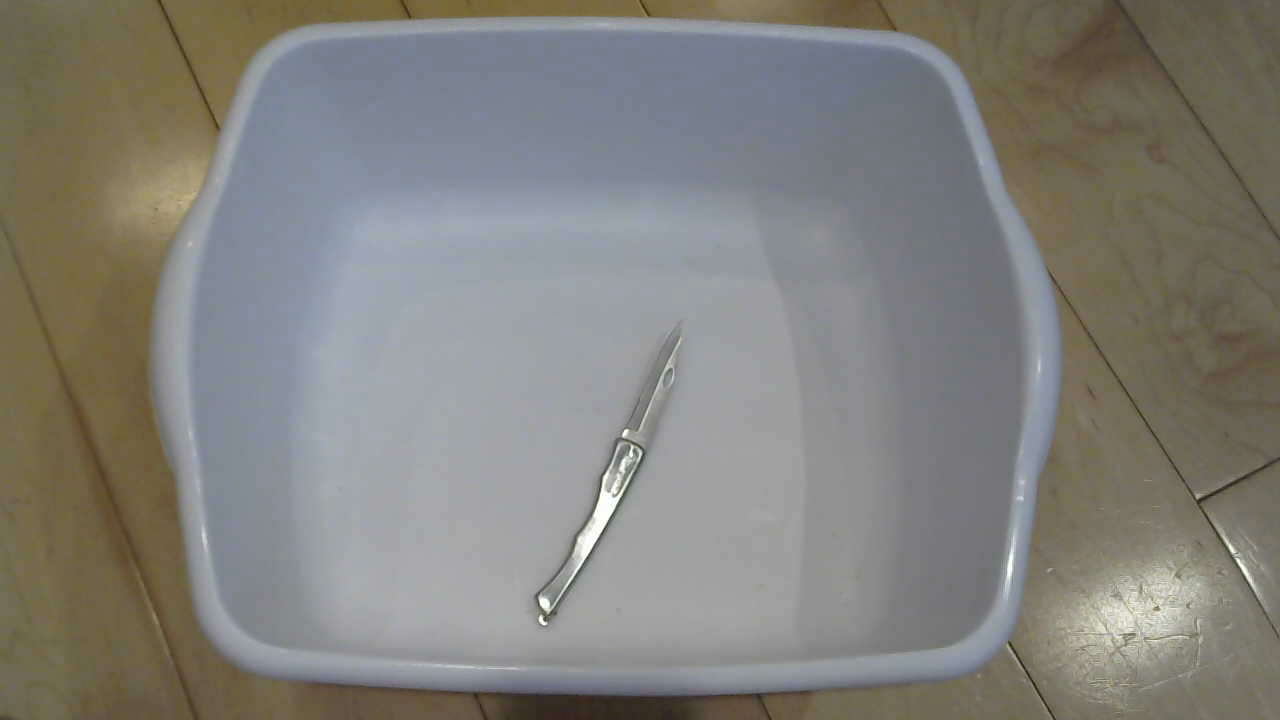knife: (527, 322, 712, 632)
